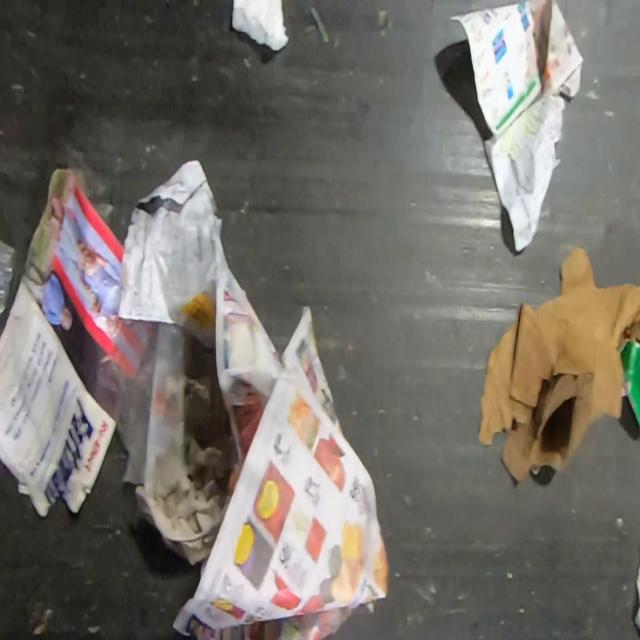cardboard: (474, 242, 640, 486), (617, 337, 640, 430)
rigid_plastic: (0, 235, 18, 319)
soft_plastic: (82, 314, 192, 492)
